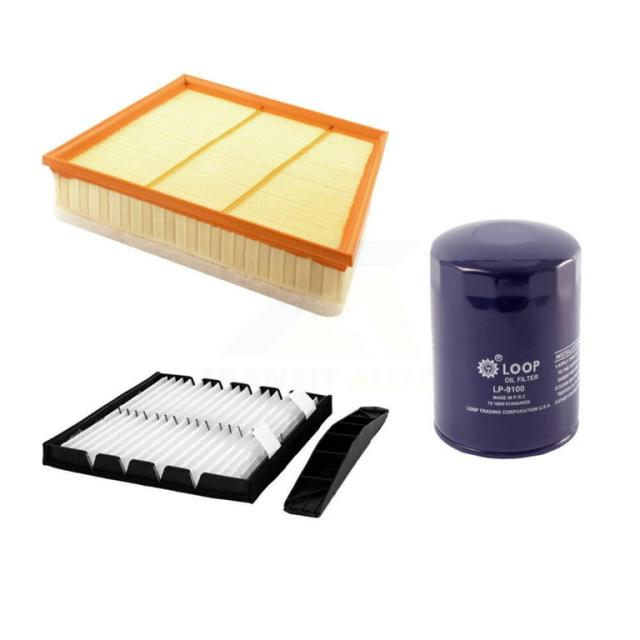air_filter: (38, 67, 396, 325), (33, 365, 341, 512)
oil_filter: (425, 211, 586, 472)
